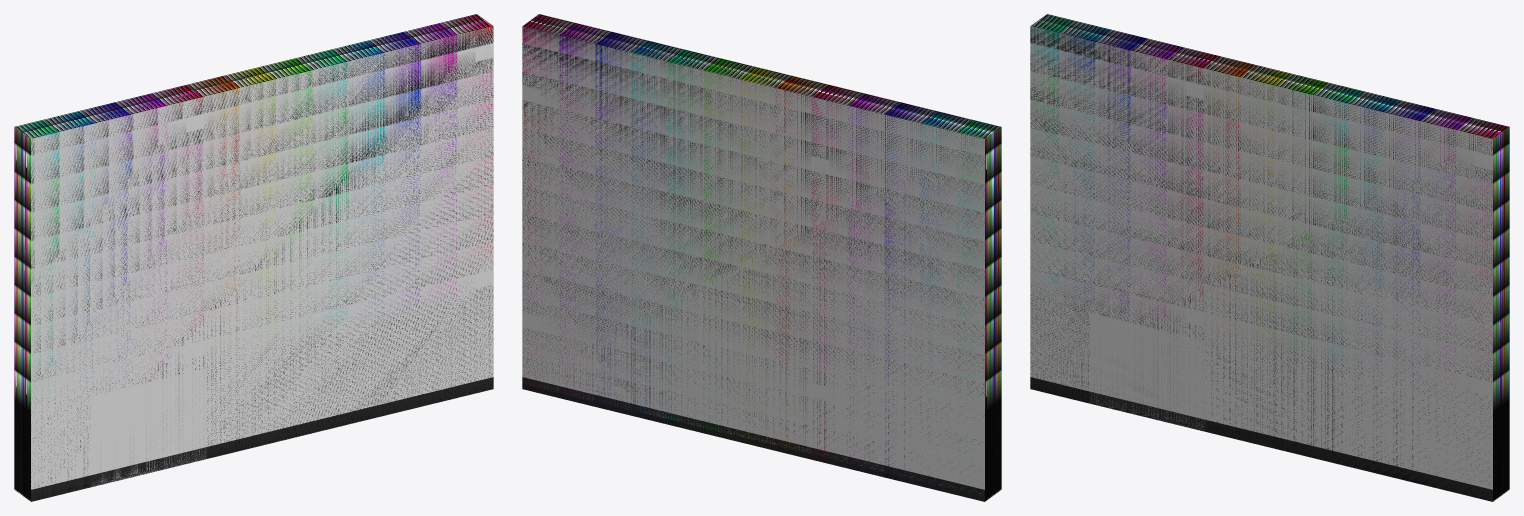
Rendered from interiorWall_line_4_white.fbx.
The picture shows the model from 3 angles, left to right: view 1: azimuth 30°, elevation 25°; view 2: azimuth 150°, elevation 25°; view 3: azimuth 330°, elevation 25°; orthographic projection.
Parts seen in each view (by area): view 1: interiorWall_line_4_white, interiorWall_line_4_trigger_white; view 2: interiorWall_line_4_white, interiorWall_line_4_trigger_white; view 3: interiorWall_line_4_white, interiorWall_line_4_trigger_white.
Boxes of the visible parts, left/top/right/bottom form: interiorWall_line_4_white: left=31, top=26, right=493, bottom=501; interiorWall_line_4_trigger_white: left=14, top=14, right=493, bottom=501; interiorWall_line_4_white: left=522, top=26, right=984, bottom=501; interiorWall_line_4_trigger_white: left=522, top=14, right=1001, bottom=501; interiorWall_line_4_white: left=1030, top=26, right=1492, bottom=501; interiorWall_line_4_trigger_white: left=1030, top=14, right=1509, bottom=501.
Size of what is drawn, in the model's own units: 400 by 300 by 25.
